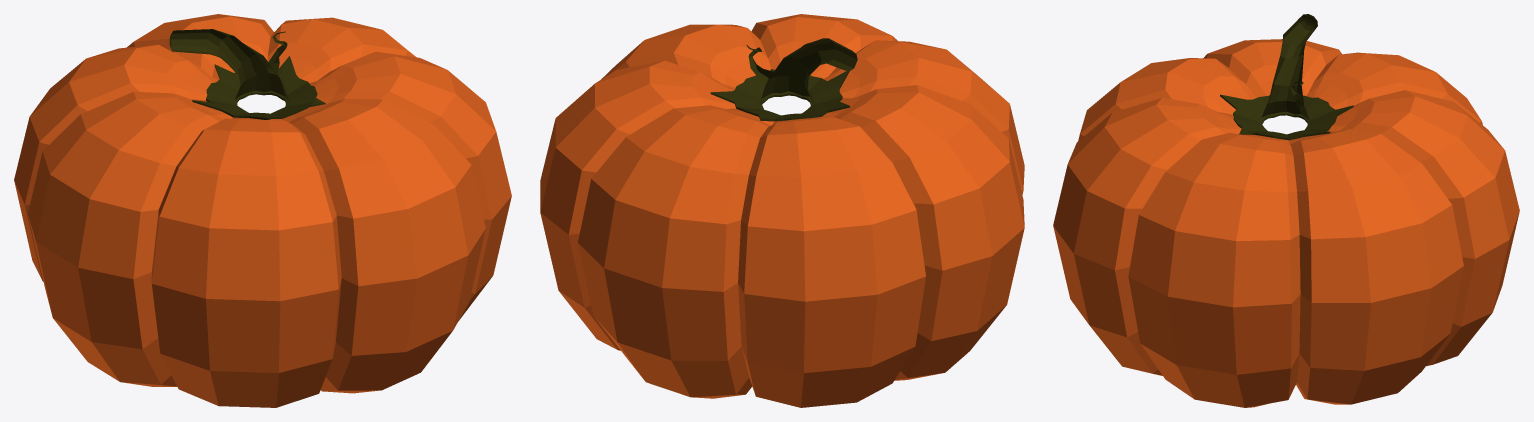
The model's file is pumpkin.gltf.
3 views of the same model, side by side, from view 1: azimuth 30°, elevation 25°; view 2: azimuth 150°, elevation 25°; view 3: azimuth 270°, elevation 25° (orthographic). The views are drawn at different scales.
Parts seen in each view (by area): view 1: Pumpkin_Cylinder.001; view 2: Pumpkin_Cylinder.001; view 3: Pumpkin_Cylinder.001.
Part boxes in pixels (x1,y1,x2,y2): Pumpkin_Cylinder.001: [14, 14, 511, 407]; Pumpkin_Cylinder.001: [540, 14, 1024, 407]; Pumpkin_Cylinder.001: [1053, 14, 1519, 407].
Bounding box in the file's own units: 0.6116 × 0.441 × 0.6167.
Materials: 1 (1 with a texture image).
